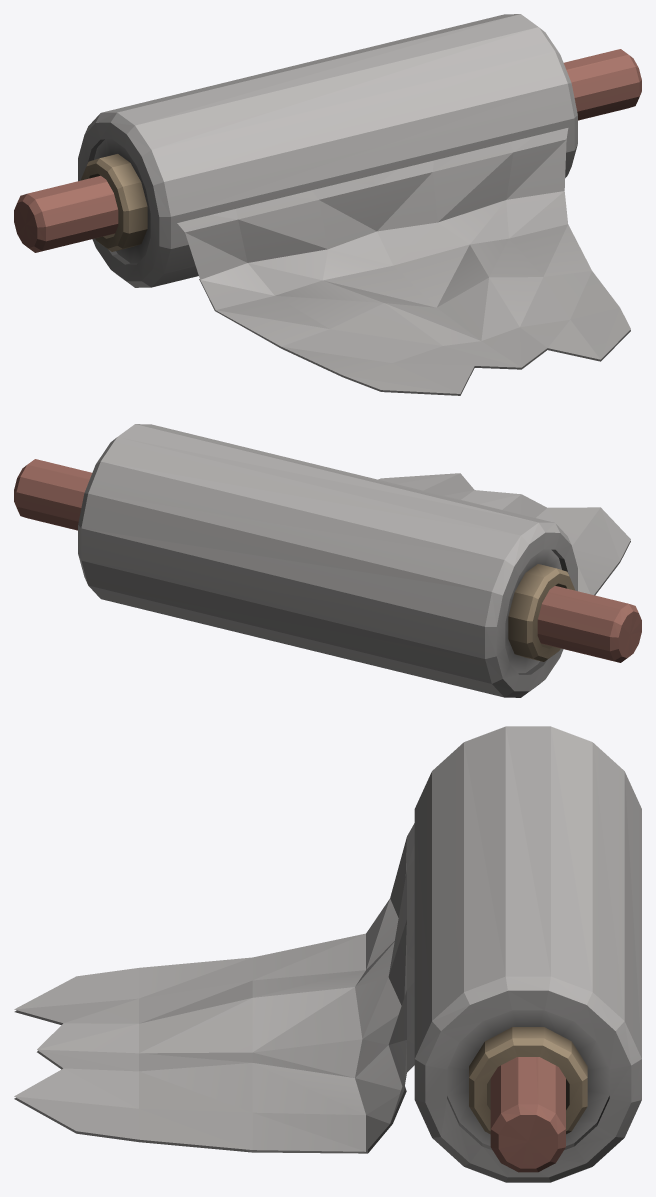
The model's file is film.glb.
3 views of the same model, one above another, from view 1: azimuth 30°, elevation 25°; view 2: azimuth 150°, elevation 25°; view 3: azimuth 270°, elevation 25° (orthographic). The views are drawn at different scales.
Visible parts, largest first — view 1: film; view 2: film; view 3: film.
Boxes of the visible parts, x1=… form: film: x1=14, y1=14, x2=641, y2=395; film: x1=14, y1=424, x2=641, y2=697; film: x1=14, y1=726, x2=641, y2=1182.
Bounding box in the file's own units: 0.65 × 0.1667 × 0.4607.
